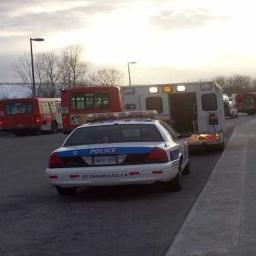ambulance: (121, 81, 224, 149), (235, 92, 255, 114)
